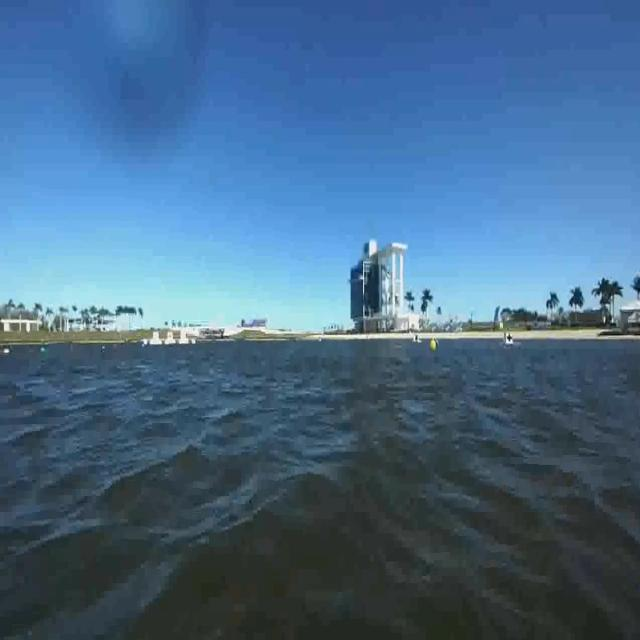yellow-buoy: (430, 338, 438, 353)
